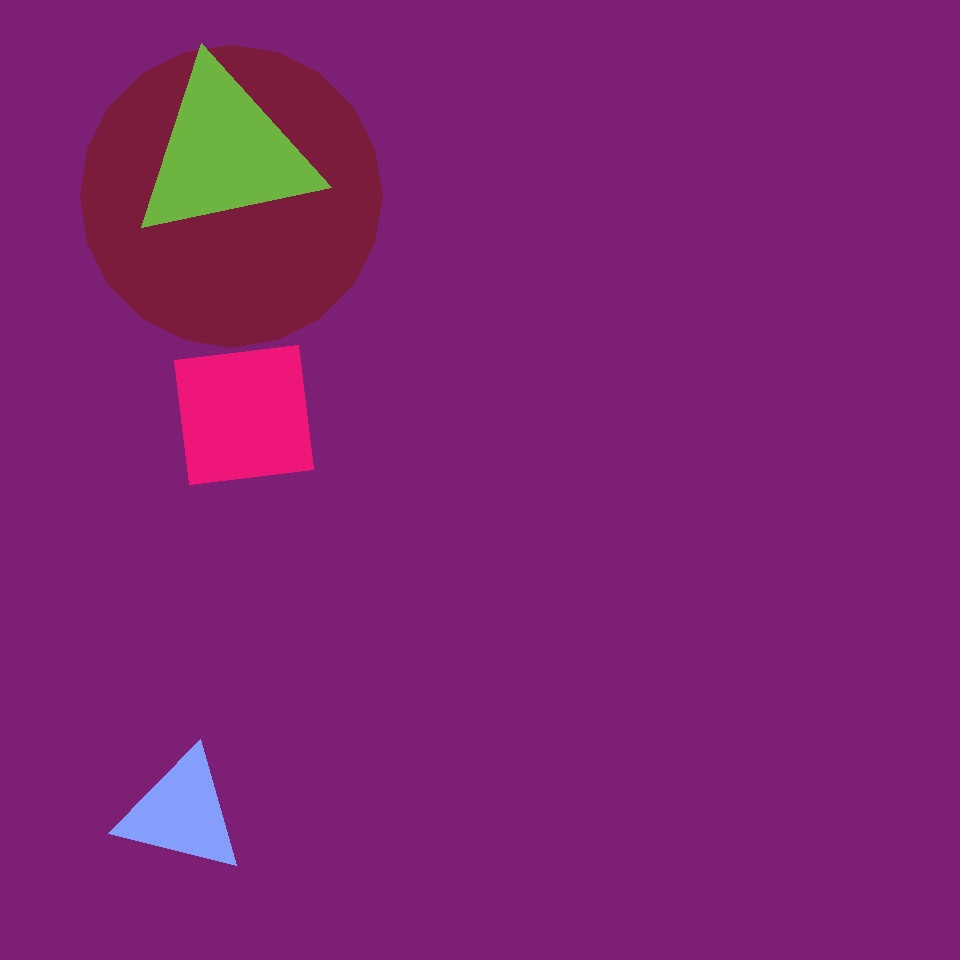circle: (127, 537, 407, 823), (130, 61, 320, 245), (118, 750, 246, 876)
square: (466, 734, 675, 944), (404, 135, 560, 291), (174, 346, 314, 485)
triangle: (80, 45, 382, 347), (652, 245, 896, 489)
